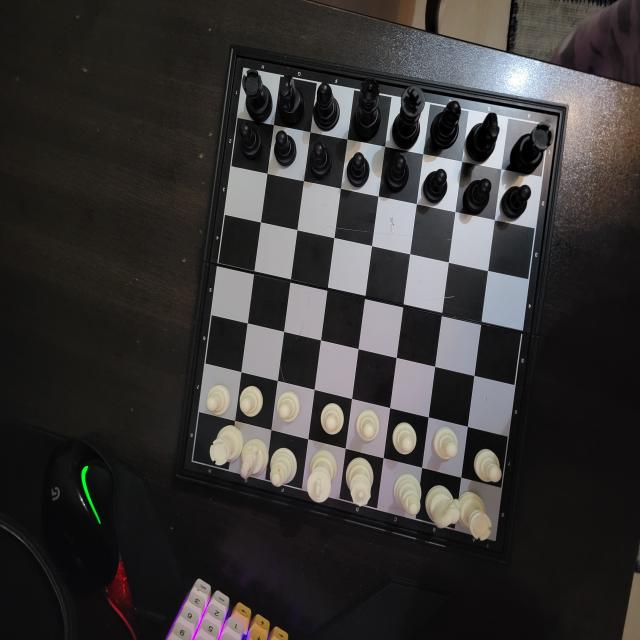black-bishop: (430, 99, 461, 150), (312, 80, 341, 133)
black-king: (394, 85, 425, 145)
black-knight: (466, 111, 501, 160), (278, 71, 305, 126)
black-pawn: (462, 176, 492, 215), (501, 183, 530, 221), (308, 140, 334, 180), (423, 166, 449, 206), (238, 121, 263, 162), (346, 150, 371, 188), (384, 155, 409, 193), (274, 130, 296, 168)
black-queen: (354, 74, 381, 138)
black-rook: (510, 120, 554, 170), (240, 66, 274, 121)
chess-board: (191, 56, 558, 566)
white-bishop: (393, 472, 423, 518), (270, 446, 298, 492)
white-king: (306, 448, 339, 508)
white-knight: (425, 485, 462, 533), (240, 438, 269, 488)
white-pawn: (473, 447, 502, 487), (354, 407, 381, 446), (433, 426, 459, 464), (319, 401, 344, 439), (392, 422, 418, 458), (239, 384, 263, 421), (276, 389, 300, 426), (206, 382, 230, 417)
white-queen: (344, 456, 378, 516)
white-rook: (461, 491, 493, 544), (210, 424, 241, 469)
